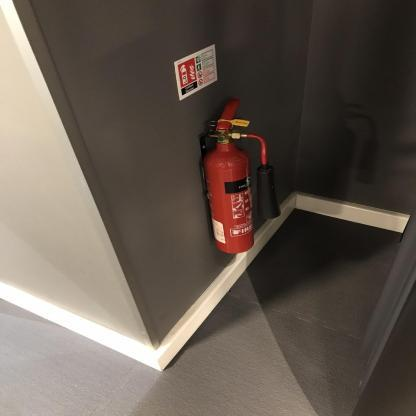Fire Extinguisher: (193, 87, 284, 254)
